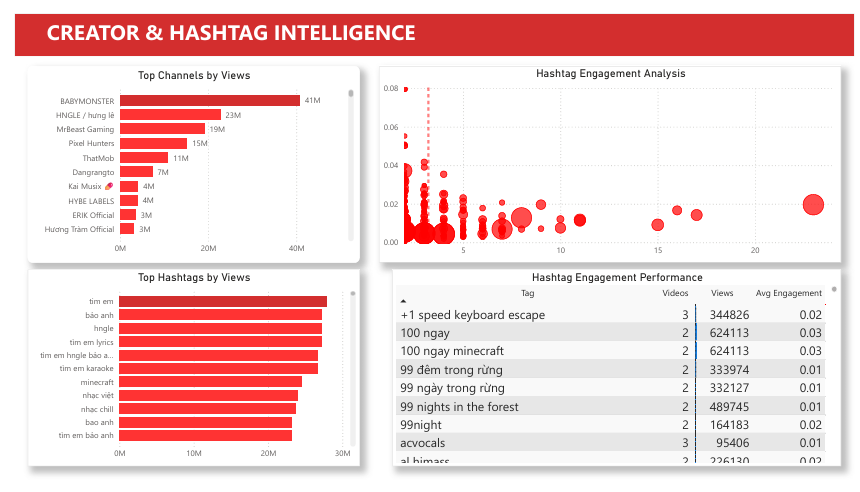

This screenshot's page, from the dashboard's own definition file:
{"tool":"powerbi","page":{"name":"Creator & Hashtag Intelligence","canvas":[1280,720],"ordinal":1},"visuals":[{"type":"shape","box":[0,0,1280,65],"z":0},{"type":"textbox","box":[44.3,0,511.4,60],"z":1000},{"type":"clusteredBarChart","title":"Top Channels by Views","fields":{"Category":["youtube_clean.channelTitle"],"Y":["youtube_clean.Total Views"]},"box":[20,80,505.7,300],"z":2000},{"type":"scatterChart","title":"Hashtag Engagement Analysis","fields":{"X":["Sum(hashtag_performance.Total_Videos)"],"Y":["hashtag_performance.Avg_Engagement_Rate"],"Size":["Sum(hashtag_performance.Total_Views)"],"Category":["hashtag_performance.tag"]},"box":[555.7,80,704.3,300],"z":3000},{"type":"clusteredBarChart","title":"Top Hashtags by Views","fields":{"Y":["Sum(hashtag_performance.Total_Views)"],"Category":["hashtag_performance.tag"]},"box":[20,390,505.7,300],"z":4000},{"type":"tableEx","title":"Hashtag Engagement Performance","fields":{"Values":["hashtag_performance.tag","Sum(hashtag_performance.Total_Videos)","Sum(hashtag_performance.Total_Views)","Sum(hashtag_performance.Avg_Engagement_Rate)"]},"box":[576,390,704,300],"z":5000}]}

Visuals, with their boxes in screenshot pixels (x1, y1, x2, y2), scaled from the page's 1280x720 canvas onto the 860x492 screenshot:
shape: left=0, top=0, right=859, bottom=44
textbox: left=30, top=0, right=373, bottom=41
"Top Channels by Views" clusteredBarChart: left=13, top=55, right=353, bottom=260
"Hashtag Engagement Analysis" scatterChart: left=373, top=55, right=847, bottom=260
"Top Hashtags by Views" clusteredBarChart: left=13, top=266, right=353, bottom=472
"Hashtag Engagement Performance" tableEx: left=387, top=266, right=859, bottom=472
